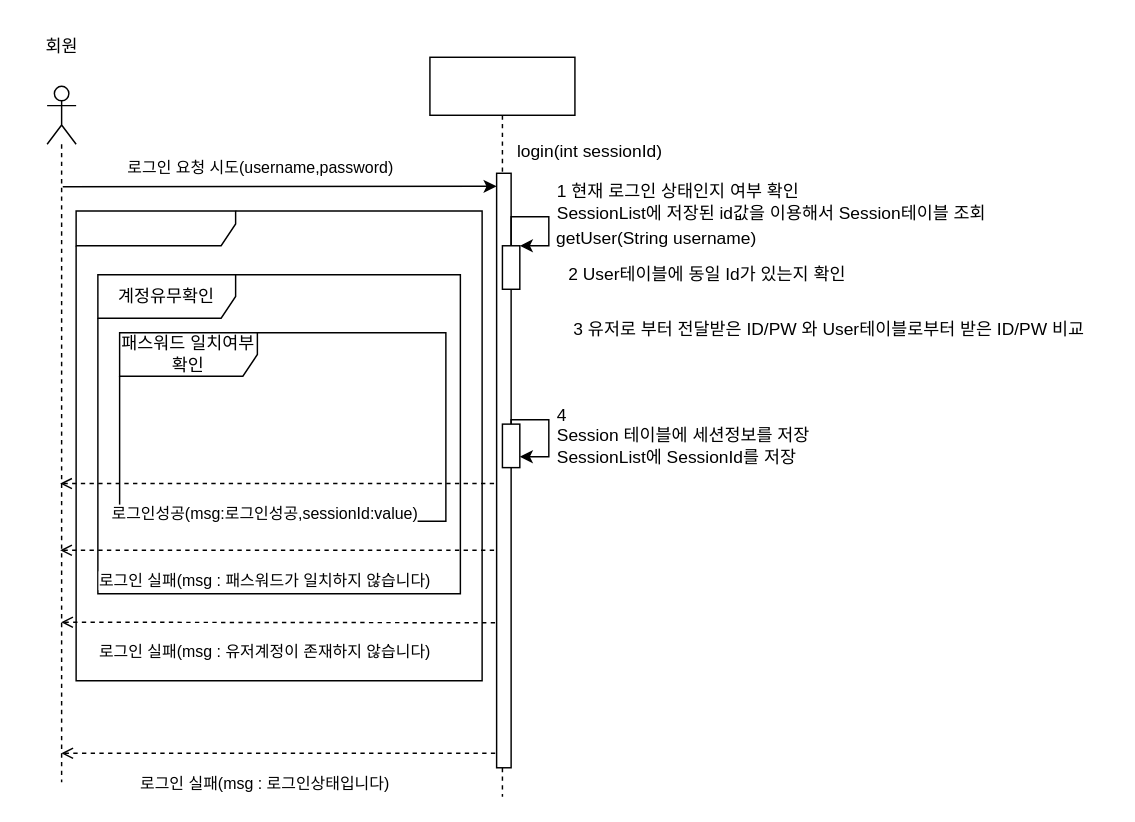
This 1135x822 diagram has some shape labels left out. Here are the shapes that lost their labels. From the top down, the box of each, then its label:
(75, 210, 482, 681): 로그인 상태여부
(428, 56, 575, 797): UserService
